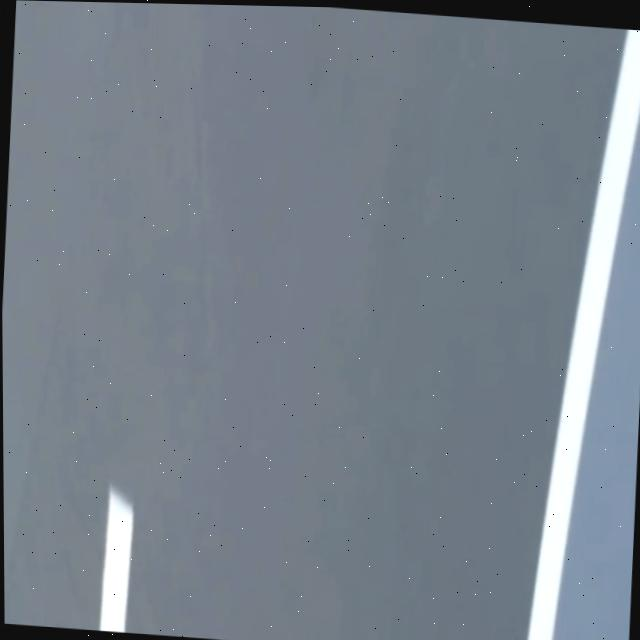center: (100, 489, 134, 633)
left: (529, 30, 640, 640)
